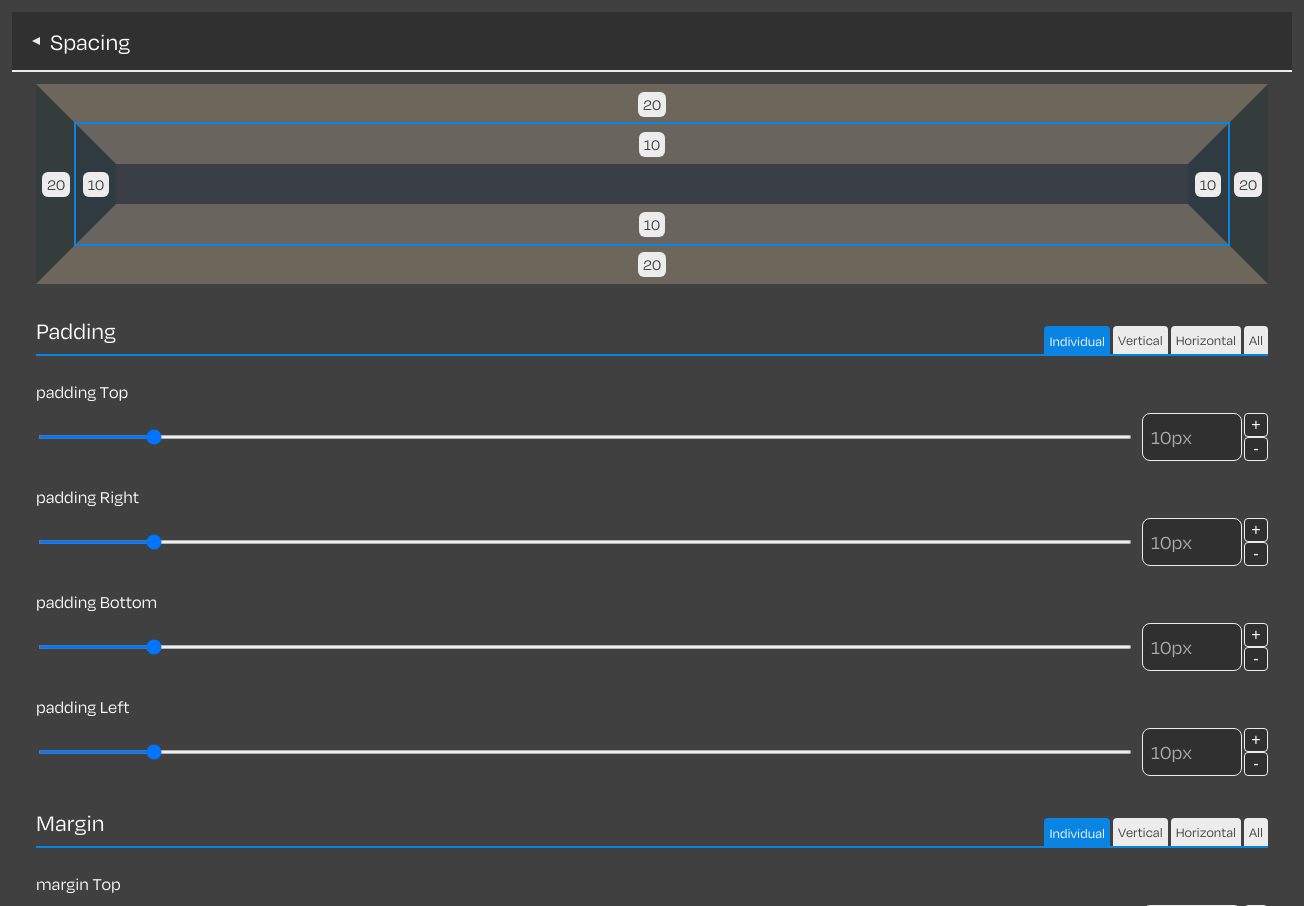
it: SpacingArea 컴포넌트 › 패딩 옵션을 선택하면 해당 컨트롤이 렌더링된다
What coordinates should you click on to do the following:
click the 1st button "All"
I would click on:
 (1256, 340)
Its box is 1244,326 -> 1268,354.
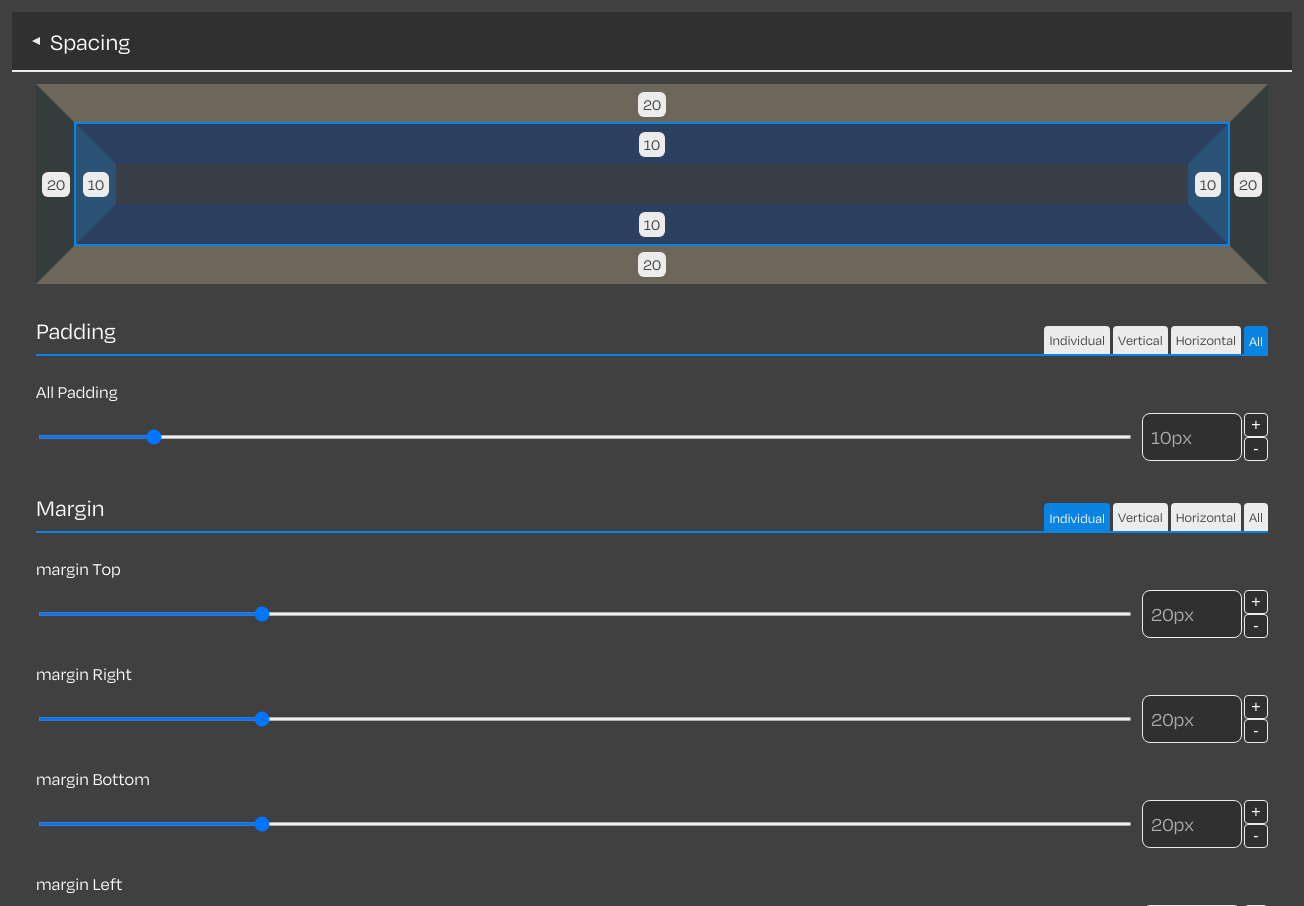
Expected: the text "All Padding" is shown, 36,380 -> 118,403
What coordinates should you click on to do the following:
click the 1st button "Vertical"
I would click on:
 (1140, 340)
Its box is 1113,326 -> 1168,354.
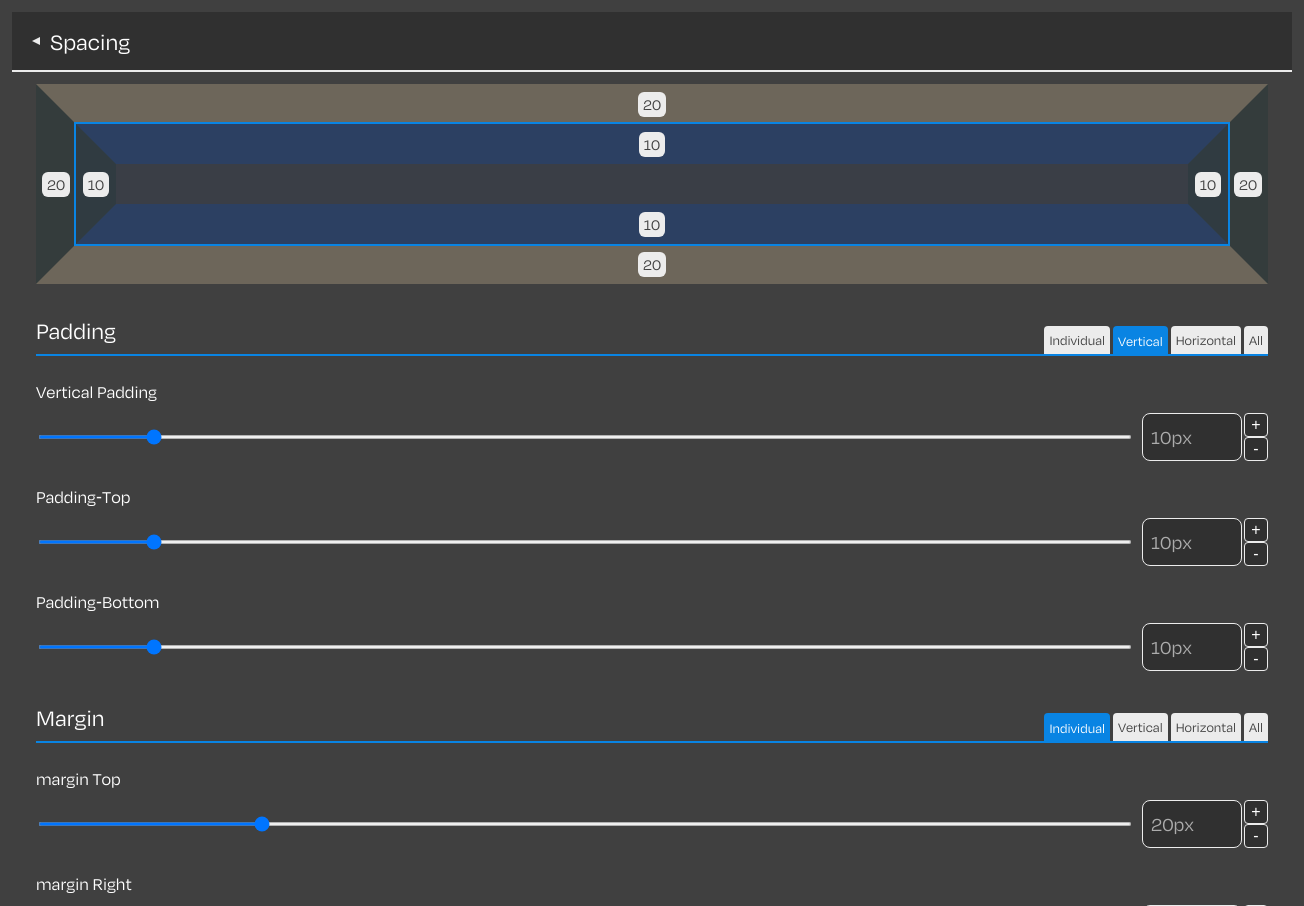
Expected: the text "Vertical Padding" is shown, 36,380 -> 157,403
What coordinates should you click on to do the following:
click the 1st button "Horizontal"
I would click on:
 (1206, 340)
Its box is 1171,326 -> 1241,354.
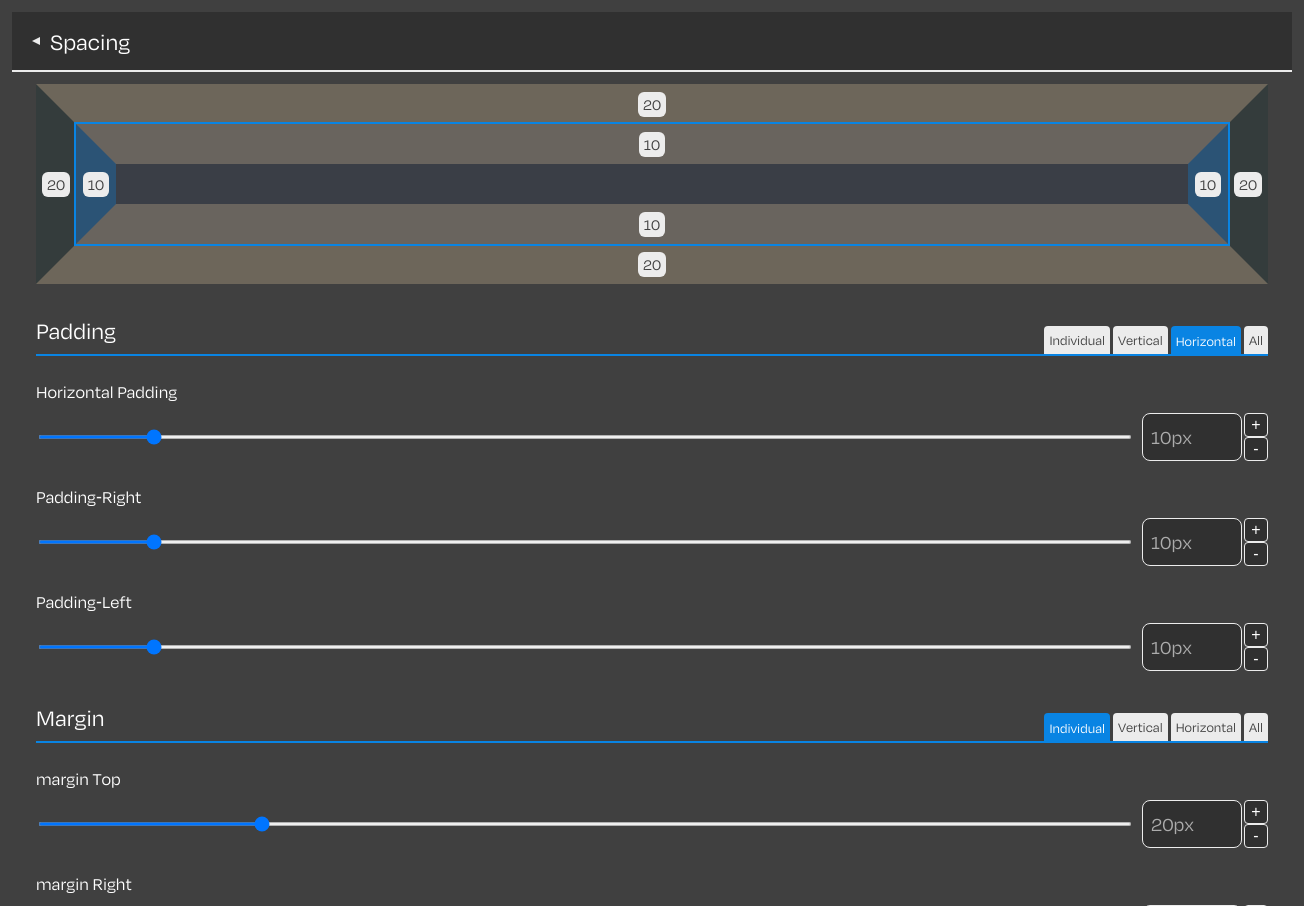
Expected: the text "Horizontal Padding" is shown, 36,380 -> 177,403
What coordinates should you click on to do the following:
click the 1st button "Individual"
I would click on:
 (1077, 340)
Its box is 1044,326 -> 1110,354.
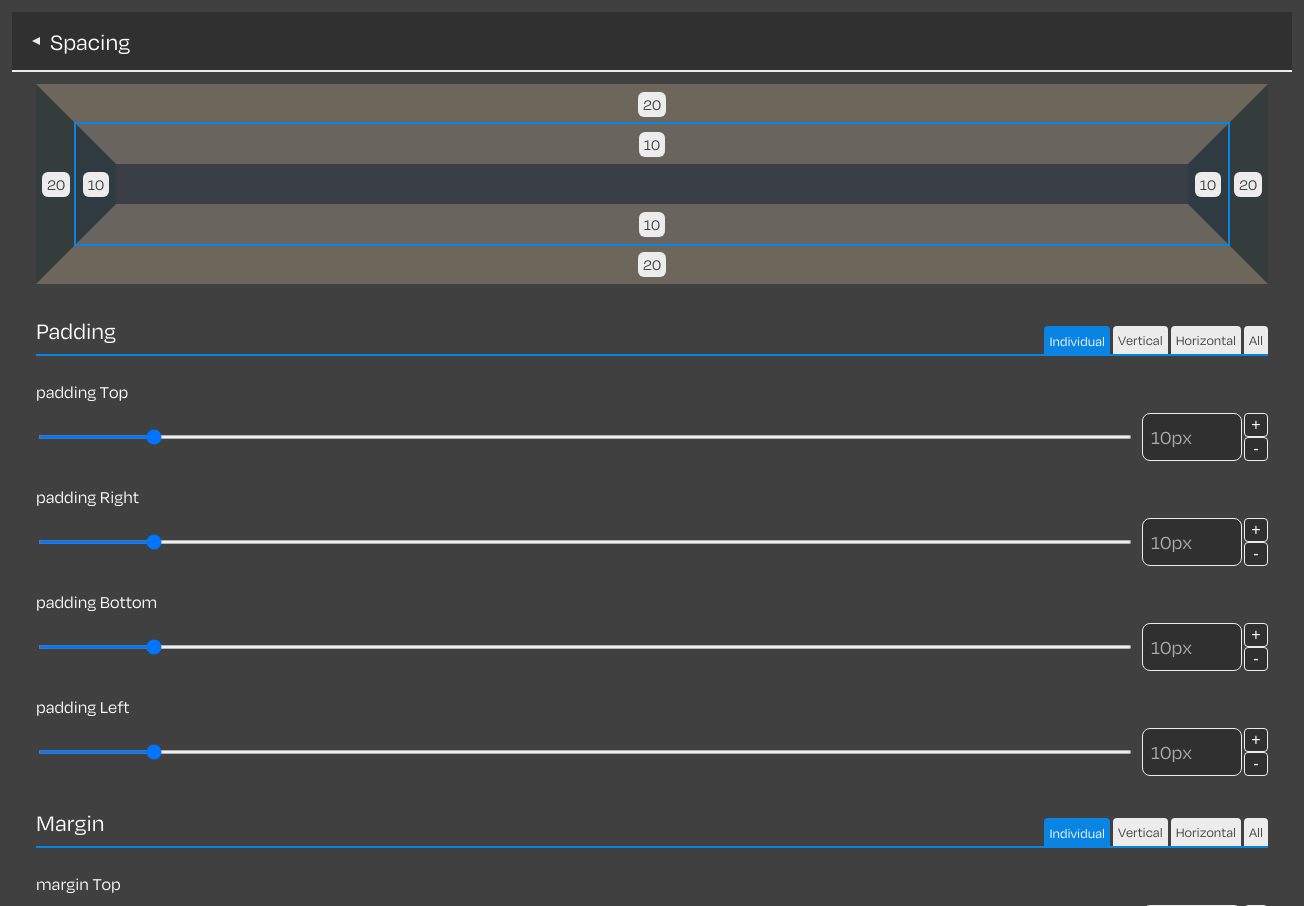
Expected: the text "padding Top" is shown, 36,380 -> 128,403
Expected: the text "padding Right" is shown, 36,485 -> 139,508
Expected: the text "padding Bottom" is shown, 36,590 -> 157,613
